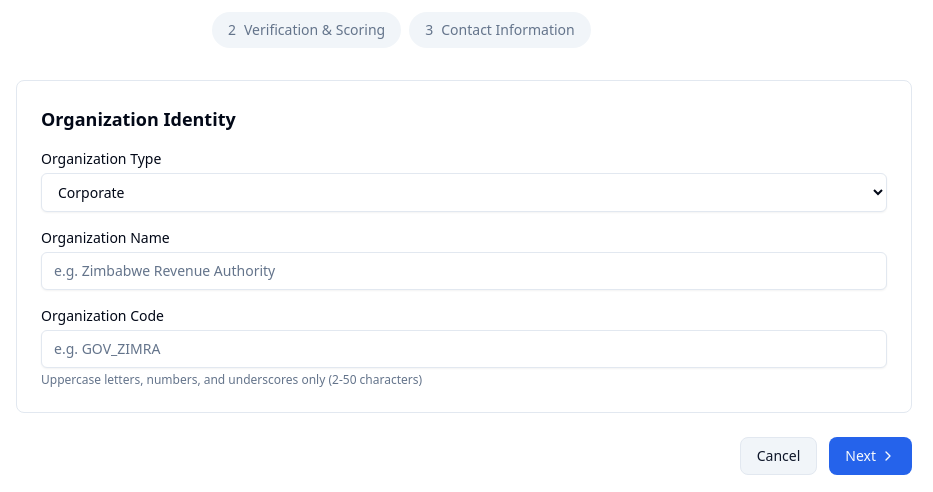
OrganizationWizard › shows API endpoint field only when verification method is api
The image size is (933, 492).
Type "Test Organization" into the field labelled "Organization Name" at (464, 271), box [41,252,887,290]
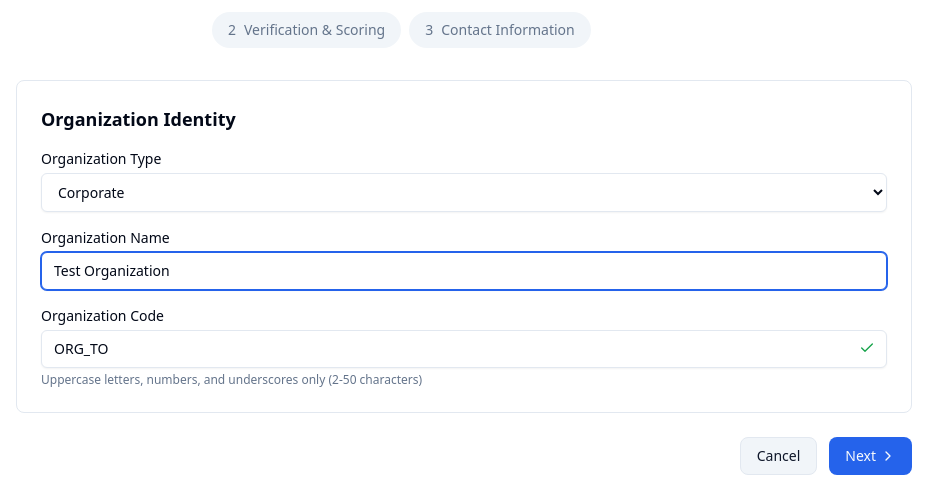
Replace the text in the field labelled "Organization Code" with "TEST_ORG" at (464, 349), box [41,330,887,368]
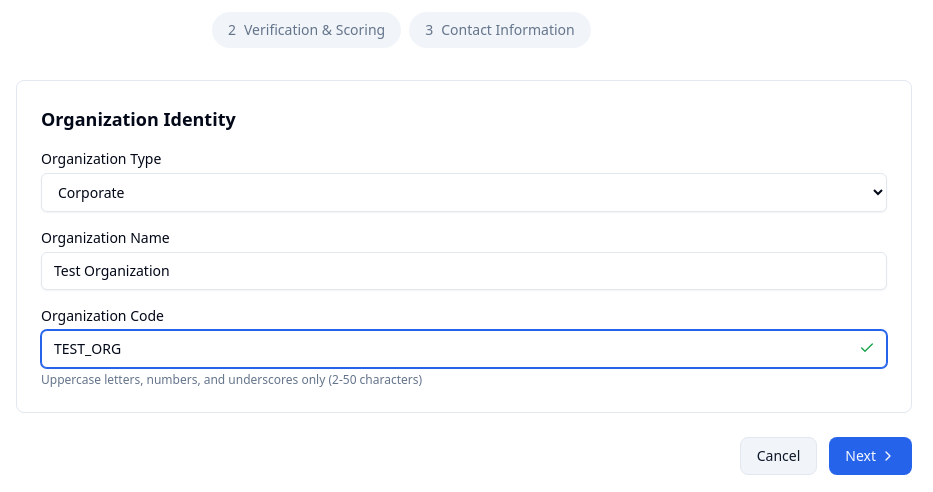
Click the button "Next" at (871, 456), box [829,437,912,475]
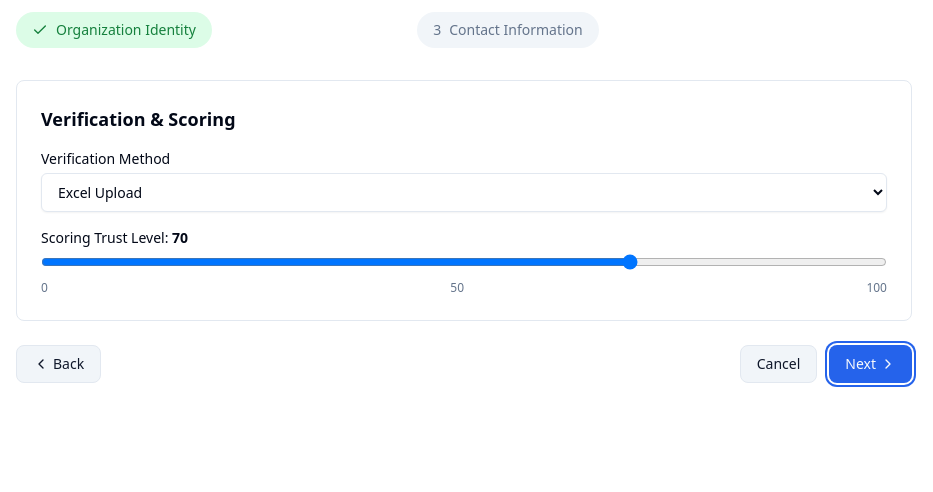
Expected: the field labelled "api endpoint" is not shown
Expected: the heading "Verification & Scoring" is shown, [41,107,236,131]
Select "API" in the dropdown labelled "Verification Method" at (464, 192), box [41,173,887,212]
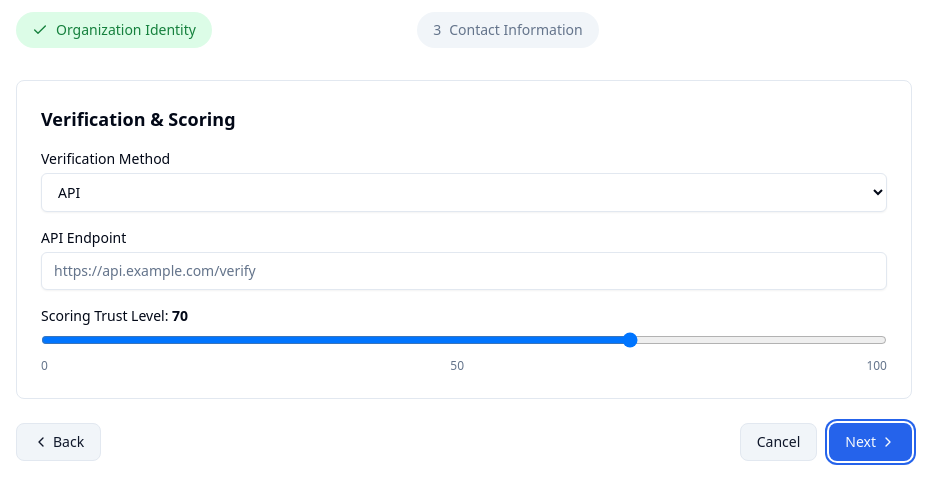
Expected: the field labelled "API Endpoint" is shown, [41,252,887,290]
